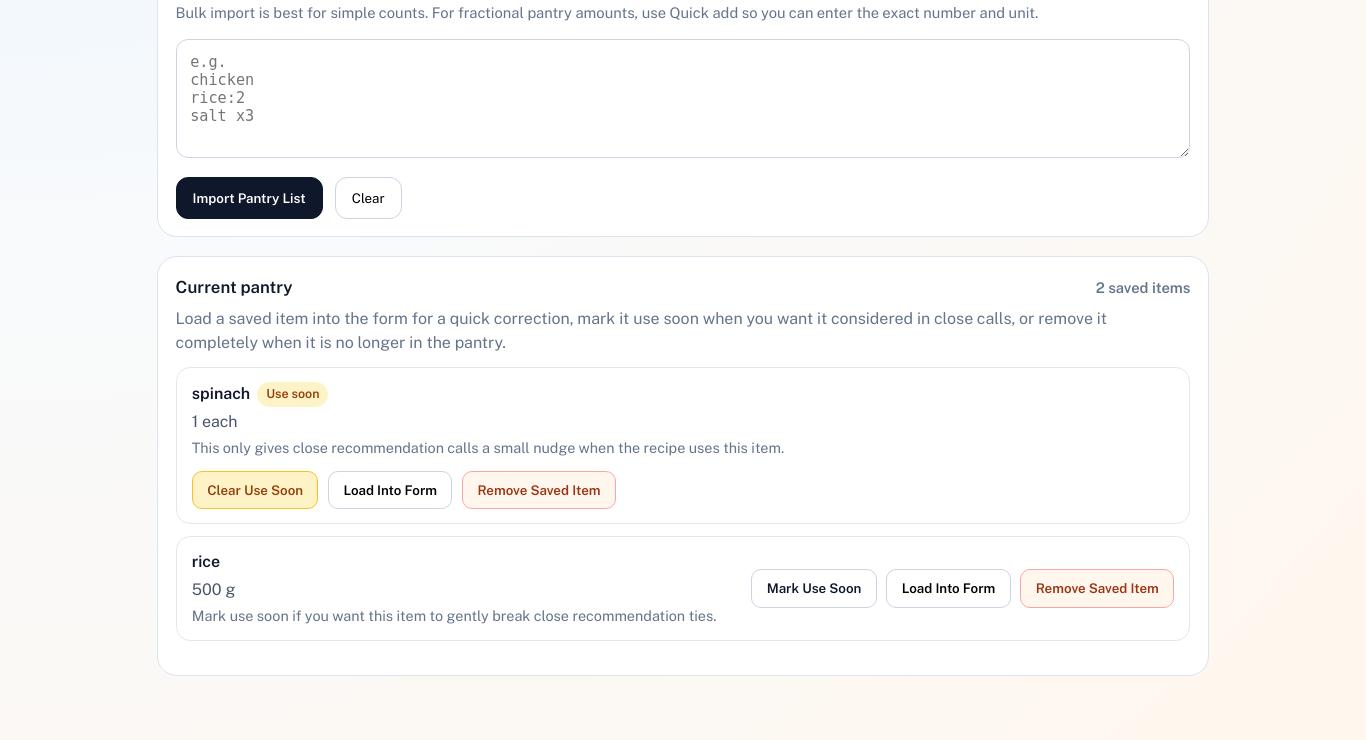
Pantry precision flow › shows and updates the use soon flag from the pantry list
The image size is (1366, 740).
(page scrolled)
Click the button "Clear Use Soon" at (255, 490), box [192,470,318,509]
(page scrolled)
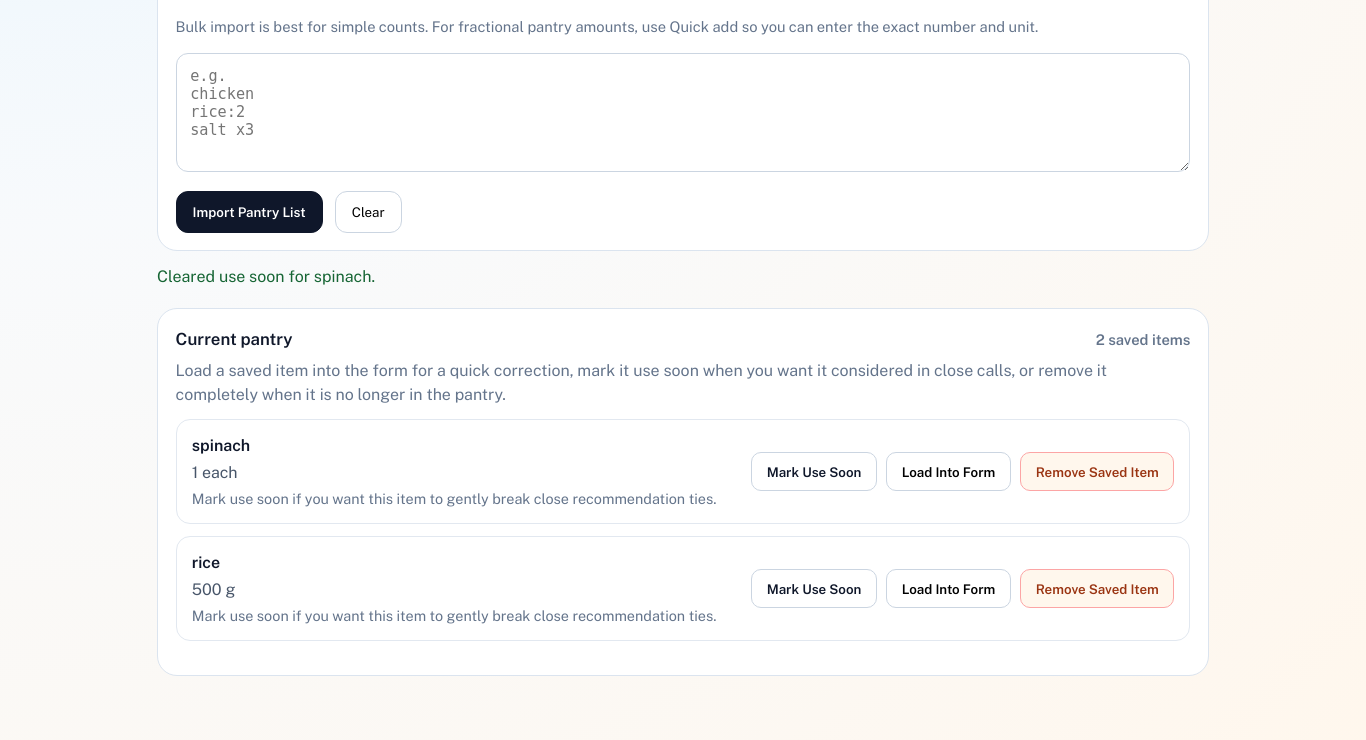
Expected: the text "Cleared use soon for spinach." is shown, [157,267,375,286]
